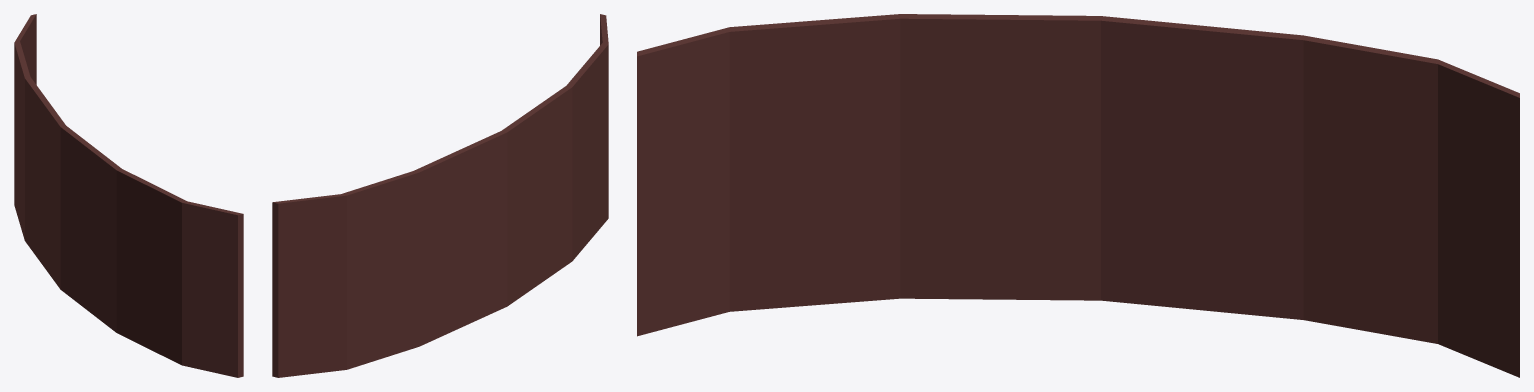
The model's file is Wall_8_curved.fbx.
3 views of the same model, side by side, from view 1: azimuth 30°, elevation 25°; view 2: azimuth 150°, elevation 25°; view 3: azimuth 270°, elevation 25° (orthographic). The views are drawn at different scales.
Visible parts, largest first — view 1: Wall 8 curved; view 2: Wall 8 curved; view 3: Wall 8 curved.
Boxes of the visible parts, x1,y1,x2,y2 form: Wall 8 curved: [14, 14, 243, 377]; Wall 8 curved: [272, 14, 608, 377]; Wall 8 curved: [637, 14, 1519, 377].
Bounding box in the file's own units: 354 × 550 × 1571.
